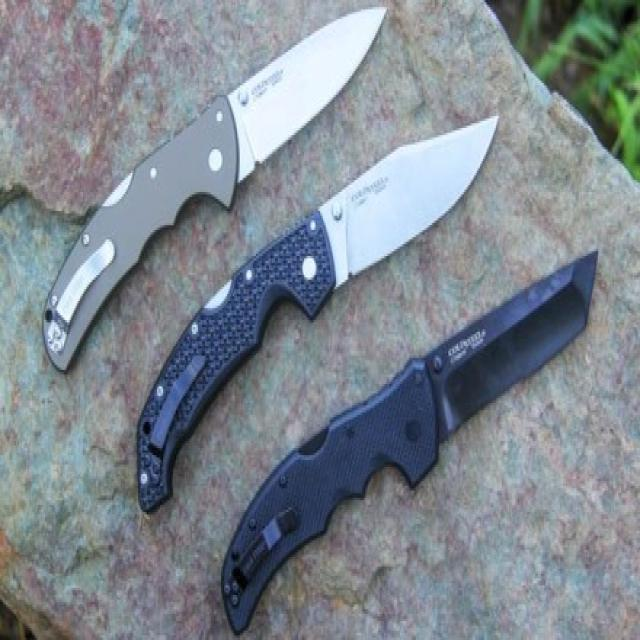knife: (136, 110, 504, 520), (221, 252, 604, 640), (35, 1, 390, 377)
